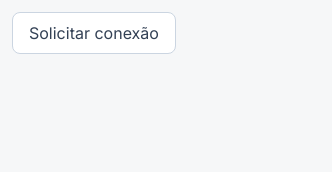
Test: solicita conexão no painel do grafo e atualiza dados compartilhados
The width and height of the screenshot is (332, 172).
Click the button "Solicitar conexão" at {"x": 94, "y": 33}, box [12, 12, 176, 54]
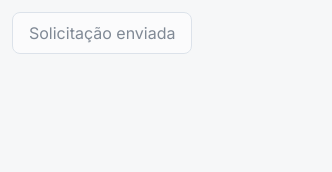
Check: the button "Solicitação enviada" is disabled, box [12, 12, 192, 54]
